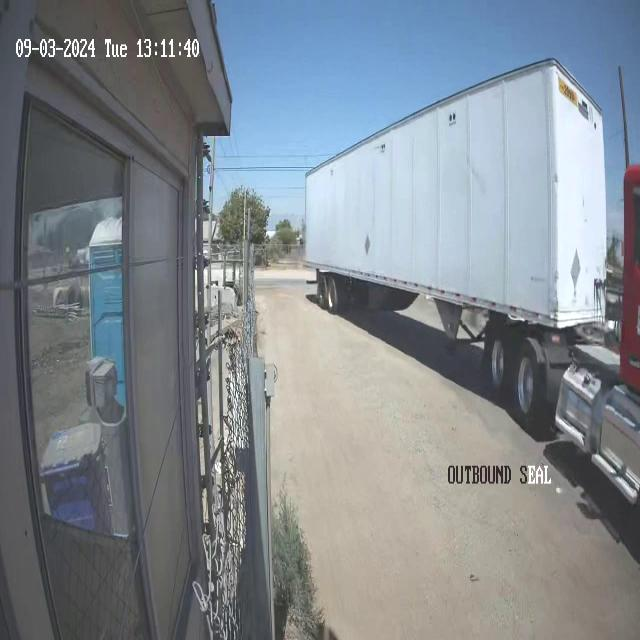CONTAINER: (302, 57, 608, 335)
